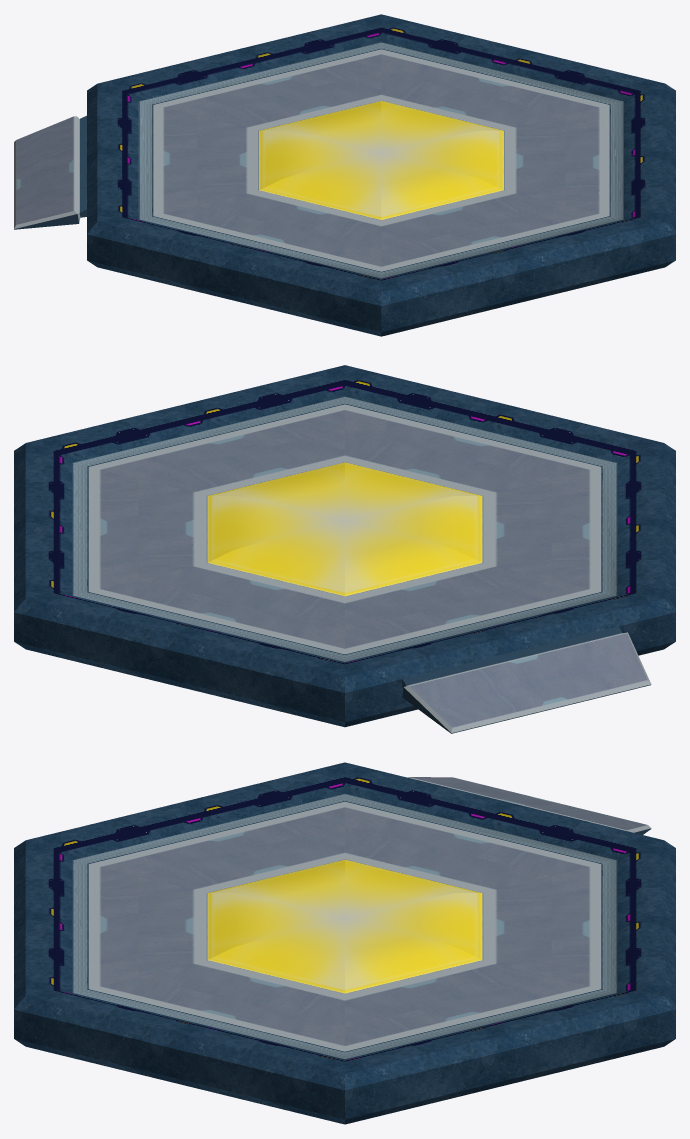
Rendered from entity28616n.gltf.
3 views of the same model, one above another, from view 1: azimuth 30°, elevation 25°; view 2: azimuth 150°, elevation 25°; view 3: azimuth 270°, elevation 25° (orthographic). The views are drawn at different scales.
Parts seen in each view (by area): view 1: node_Museum_Hex_Floor_Piece_b (2), node_Museum_Hex_Floor_Piece_b_transparency, node_Museum_Hex_Floor_Ramp_Art (1); view 2: node_Museum_Hex_Floor_Piece_b (2), node_Museum_Hex_Floor_Piece_b_transparency, node_Museum_Hex_Floor_Ramp_Art (1); view 3: node_Museum_Hex_Floor_Piece_b (2), node_Museum_Hex_Floor_Piece_b_transparency, node_Museum_Hex_Floor_Ramp_Art (1).
Boxes of the visible parts, x1,y1,x2,y2 form: node_Museum_Hex_Floor_Piece_b (2): [87, 14, 675, 336]; node_Museum_Hex_Floor_Piece_b_transparency: [259, 101, 503, 220]; node_Museum_Hex_Floor_Ramp_Art (1): [14, 115, 86, 229]; node_Museum_Hex_Floor_Piece_b (2): [14, 365, 675, 727]; node_Museum_Hex_Floor_Piece_b_transparency: [207, 462, 482, 596]; node_Museum_Hex_Floor_Ramp_Art (1): [402, 626, 651, 733]; node_Museum_Hex_Floor_Piece_b (2): [14, 762, 675, 1124]; node_Museum_Hex_Floor_Piece_b_transparency: [207, 859, 482, 993]; node_Museum_Hex_Floor_Ramp_Art (1): [408, 777, 651, 834].
Size of what is drawn, in the model's own units: 14.68 by 1.03 by 12.18.
Materials: 4 (4 with a texture image).
